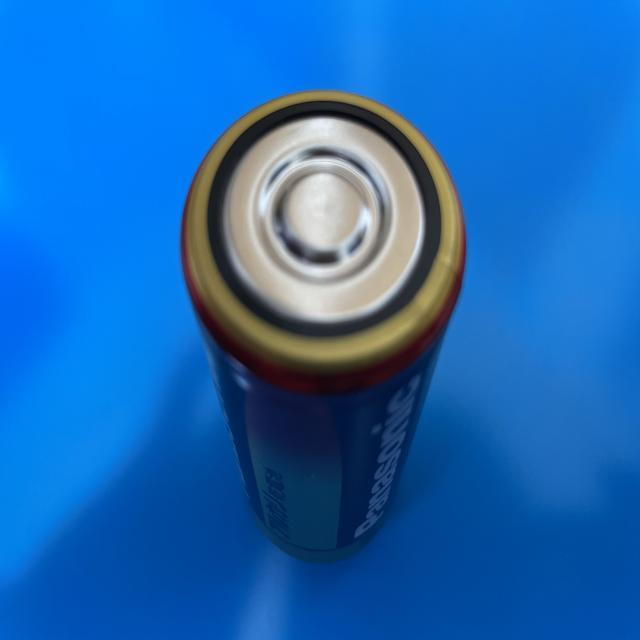hazardous waste: (172, 88, 466, 557)
